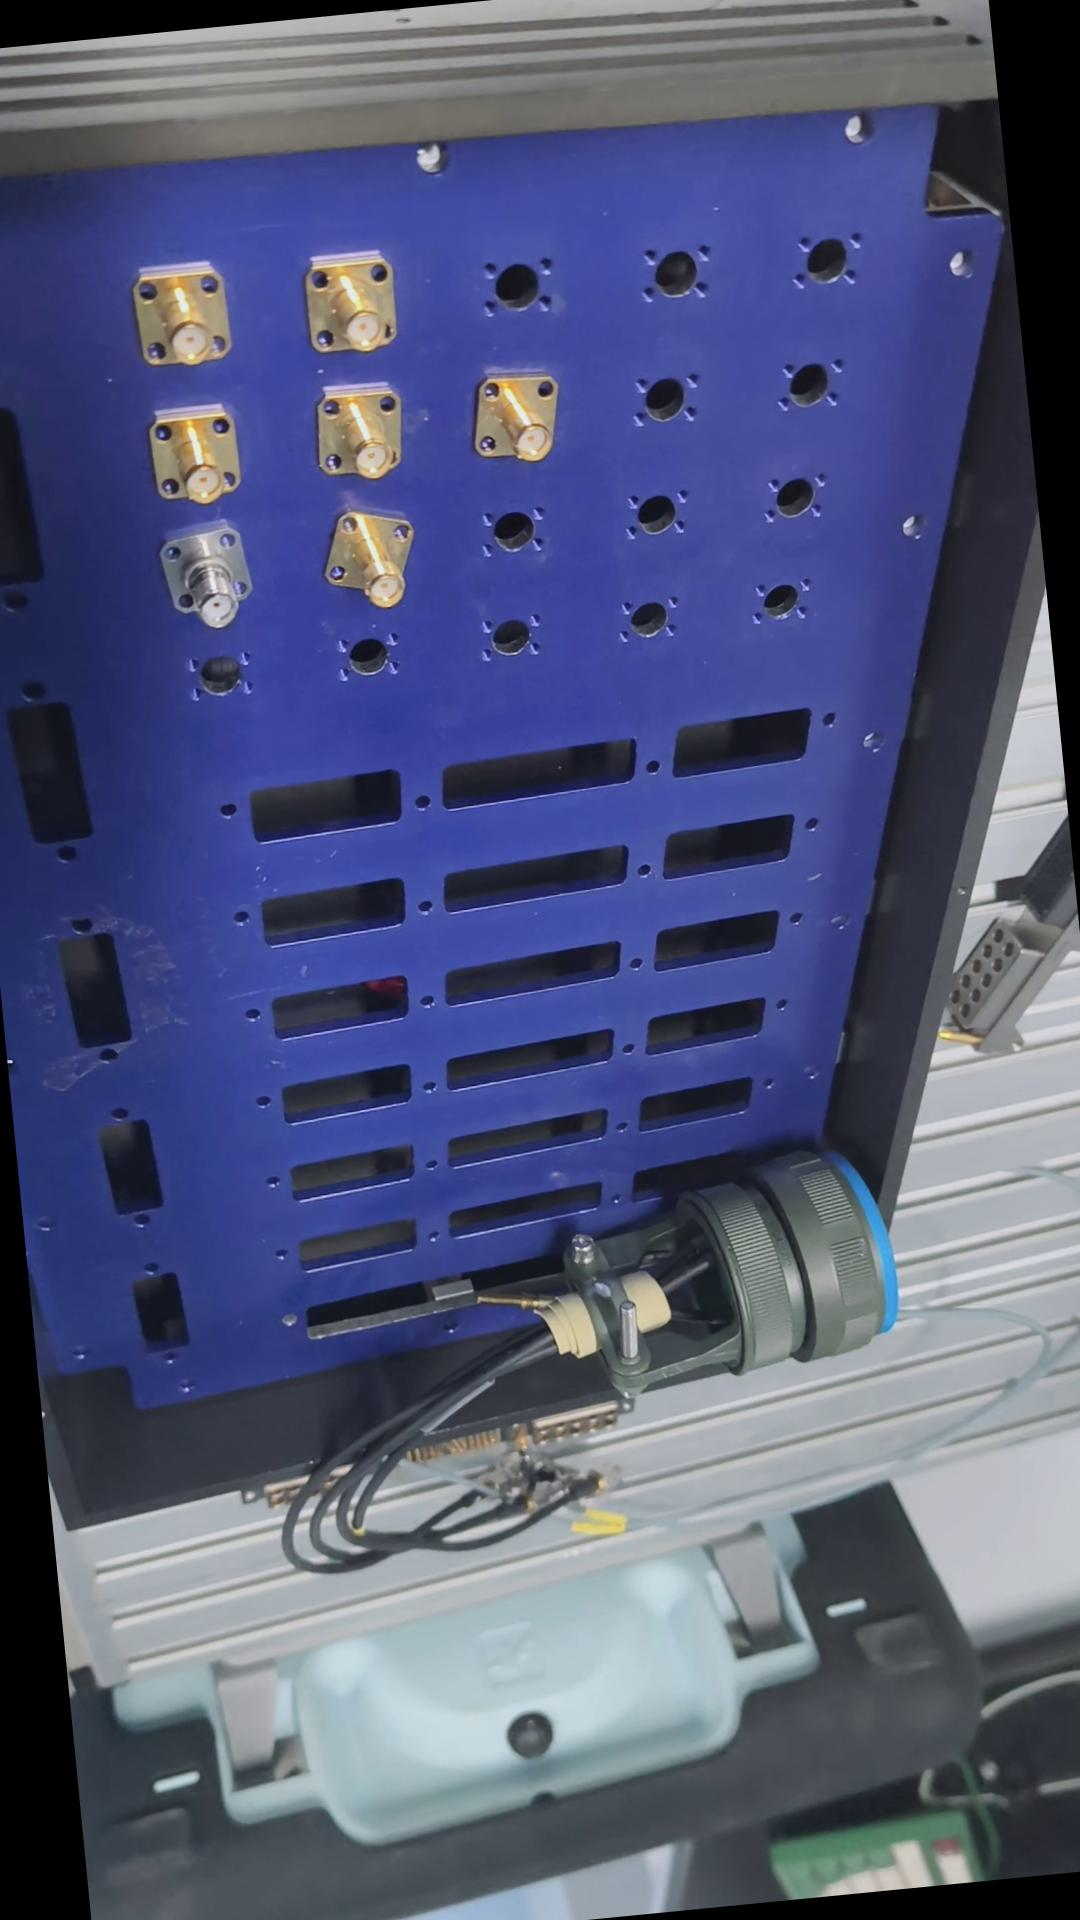SMA: (133, 255, 243, 377), (153, 520, 260, 632), (301, 247, 406, 359), (328, 498, 427, 612), (149, 402, 247, 502), (473, 363, 564, 467), (322, 382, 409, 484)
